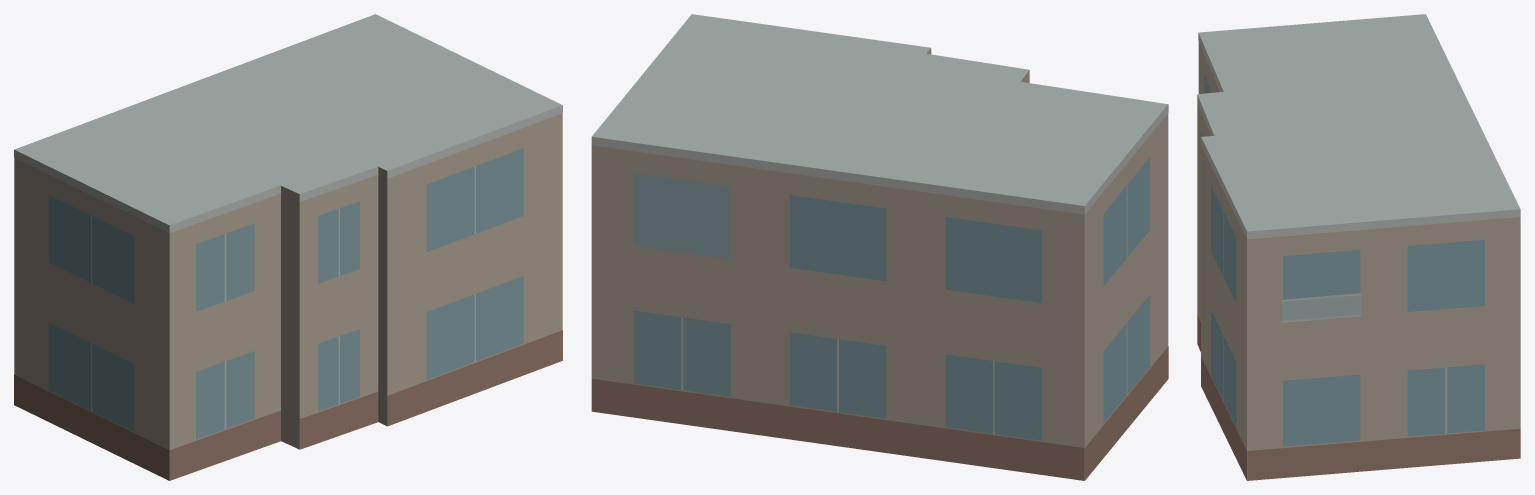
Rendered from survey-upis-32547586.glb.
The picture shows the model from 3 angles, left to right: view 1: azimuth 30°, elevation 25°; view 2: azimuth 150°, elevation 25°; view 3: azimuth 270°, elevation 25°; orthographic projection. The views are drawn at different scales.
Parts seen in each view (by area): view 1: survey-upis-32547586.tmp; view 2: survey-upis-32547586.tmp; view 3: survey-upis-32547586.tmp.
Boxes of the visible parts, x1,y1,x2,y2 form: survey-upis-32547586.tmp: (14,14,562,480); survey-upis-32547586.tmp: (591,14,1168,480); survey-upis-32547586.tmp: (1197,14,1520,480).
Size of the model in its own units: 14.61 by 7.8 by 9.18.
